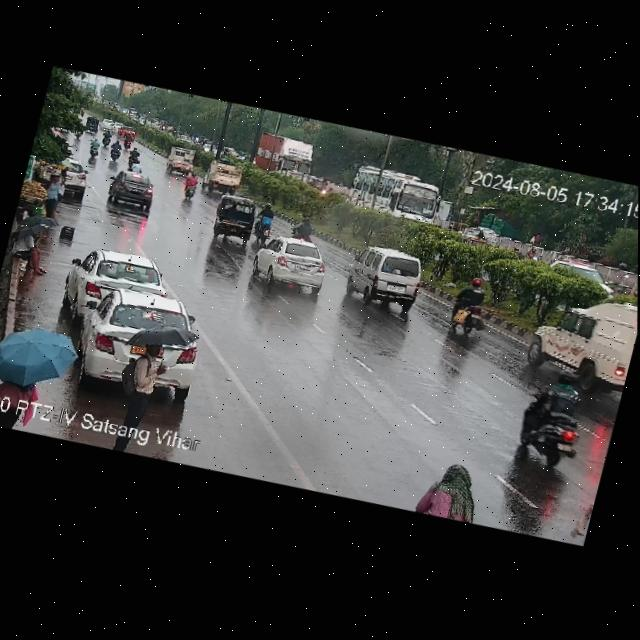bus: (347, 159, 450, 231)
car: (75, 287, 205, 399), (527, 291, 638, 381), (64, 242, 163, 338), (252, 231, 334, 303), (345, 244, 424, 315), (545, 251, 617, 297), (551, 258, 619, 299), (208, 195, 261, 246), (46, 153, 91, 200), (108, 171, 155, 212), (205, 160, 243, 194), (629, 266, 638, 304)
motorcycle: (516, 367, 587, 472), (444, 271, 491, 339), (290, 213, 318, 247), (180, 169, 204, 202), (256, 205, 277, 240)
person: (108, 331, 166, 451), (0, 351, 37, 429), (6, 223, 52, 277), (41, 166, 65, 219)
truck: (242, 126, 319, 190)
